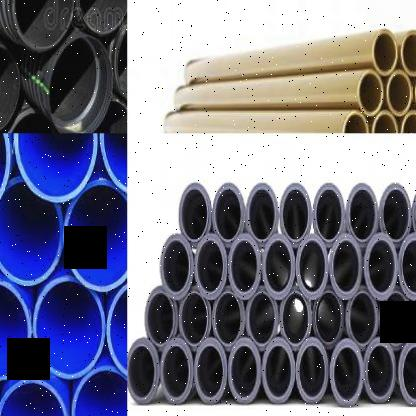pipe: (33, 276, 106, 380), (63, 178, 127, 293), (0, 176, 63, 284), (49, 36, 114, 134), (14, 133, 98, 203), (0, 277, 31, 381), (13, 0, 73, 51), (69, 367, 127, 416), (0, 376, 68, 416), (228, 337, 262, 404), (261, 234, 295, 300), (330, 339, 364, 405), (364, 233, 397, 300), (295, 234, 329, 299), (144, 286, 178, 351), (245, 183, 279, 248), (178, 183, 212, 248), (262, 337, 295, 403), (194, 338, 227, 404), (159, 235, 193, 299), (178, 287, 212, 351), (345, 183, 379, 247), (228, 234, 261, 299), (194, 234, 227, 299), (363, 338, 396, 403), (160, 339, 193, 404), (212, 182, 245, 247), (127, 337, 159, 404), (106, 278, 127, 380), (212, 287, 245, 351), (279, 287, 312, 351), (296, 337, 328, 403), (279, 183, 312, 247), (379, 287, 412, 350), (330, 235, 362, 299), (312, 285, 344, 349), (379, 183, 411, 247), (313, 183, 345, 247), (246, 287, 278, 350), (346, 287, 378, 349), (0, 44, 21, 134), (100, 133, 127, 196), (77, 0, 127, 34), (81, 100, 127, 133), (371, 28, 398, 76), (357, 69, 384, 117), (386, 70, 413, 116), (5, 111, 61, 133), (398, 233, 416, 299), (398, 339, 416, 405), (115, 16, 127, 100), (400, 29, 416, 77), (342, 110, 369, 133), (373, 109, 398, 133), (401, 109, 416, 133), (411, 288, 416, 347)
